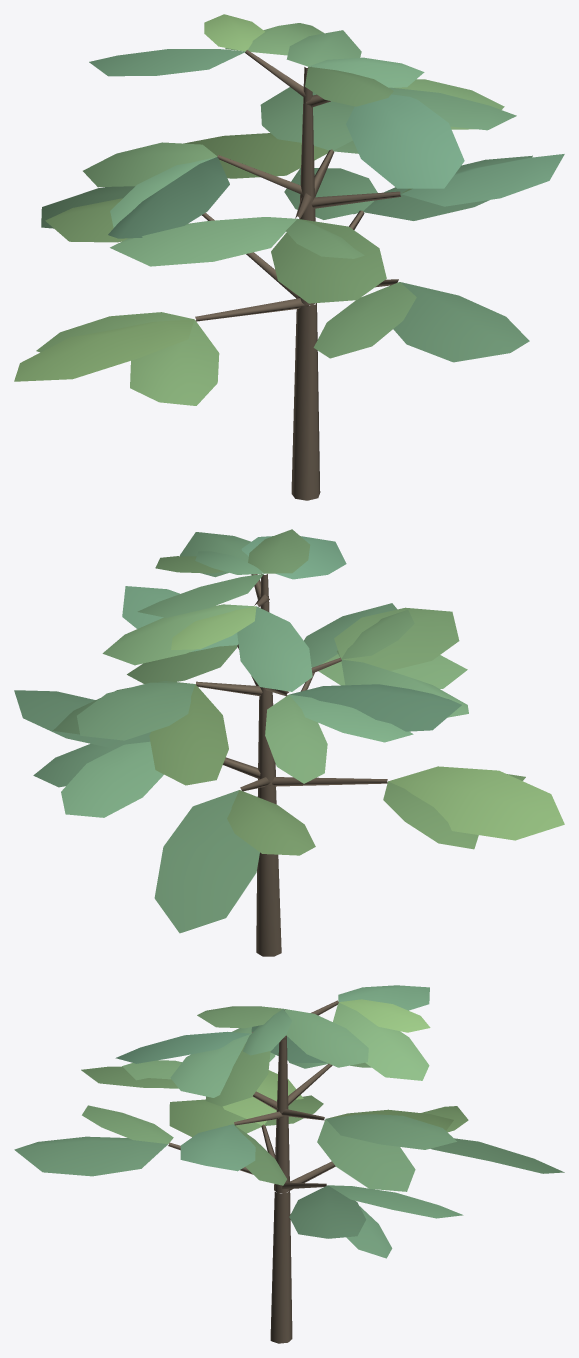
The model's file is tree-layered.glb.
3 views of the same model, one above another, from view 1: azimuth 30°, elevation 25°; view 2: azimuth 150°, elevation 25°; view 3: azimuth 270°, elevation 25° (orthographic). The views are drawn at different scales.
Parts seen in each view (by area): view 1: tree-layered; view 2: tree-layered; view 3: tree-layered.
Part boxes in pixels (box(x1,y1,x2,y2)): tree-layered: box(14, 14, 564, 500); tree-layered: box(14, 529, 564, 956); tree-layered: box(14, 985, 564, 1343).
Bounding box in the file's own units: 12.04 × 8.75 × 12.95.
